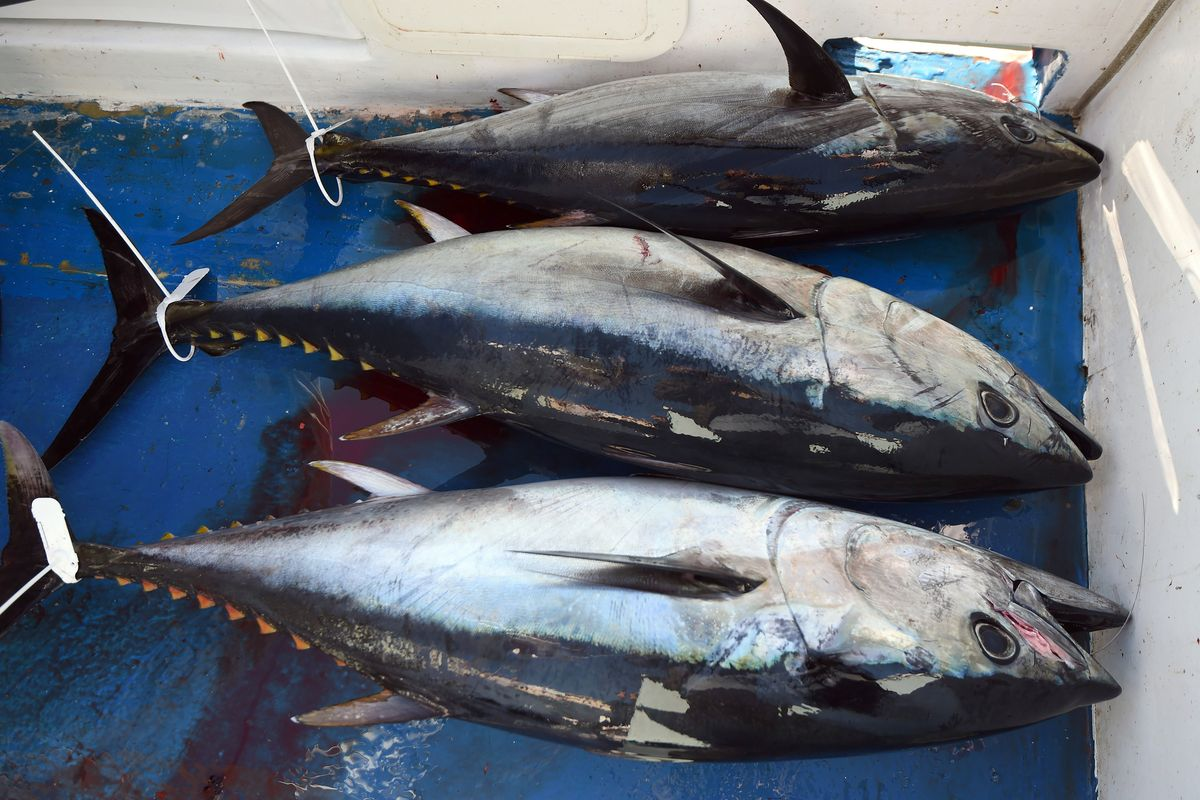Bluefina Tuna: (79, 55, 1132, 747)
